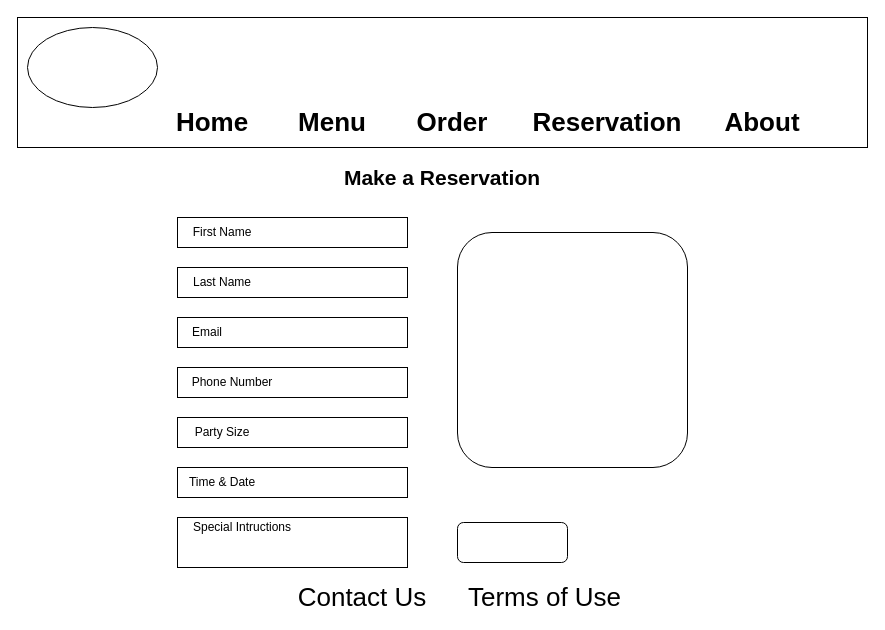
Some shapes in this 885 by 630 pixel diagram are drawn without their labels. Each missing label, with the centre of its shape:
Confirm Reservation: (x=512, y=542)
Image Dinning Room: (x=572, y=350)
Logo: (x=92, y=67)
